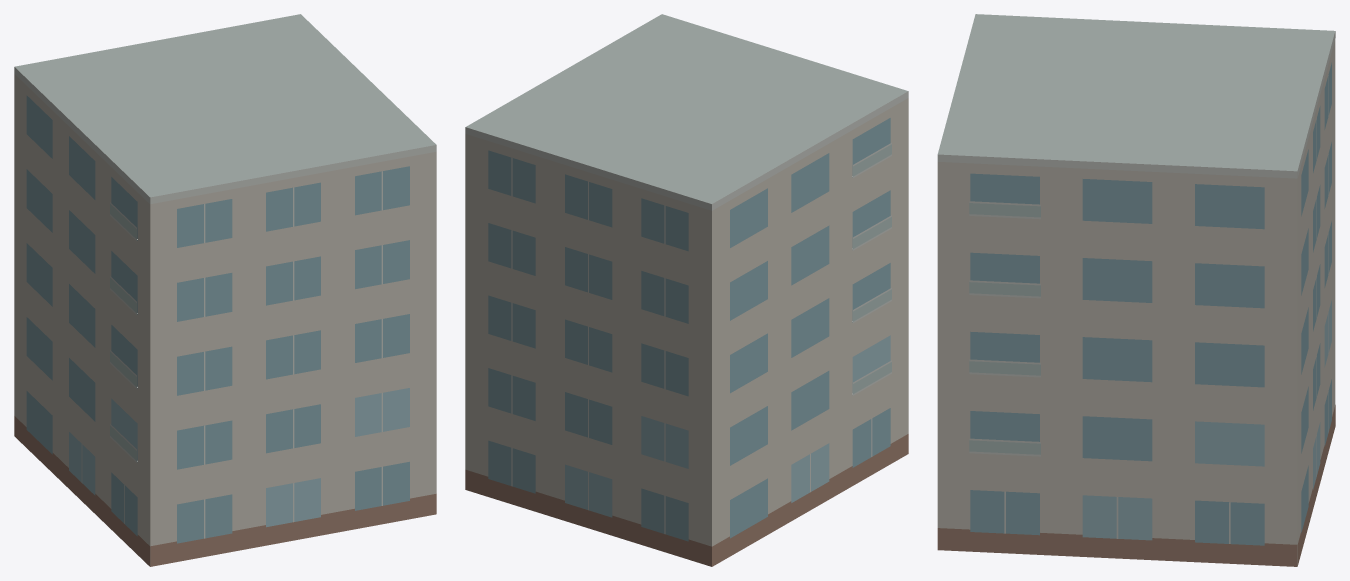
File: survey-upis-32670746.glb
3 views of the same model, side by side, from view 1: azimuth 30°, elevation 25°; view 2: azimuth 150°, elevation 25°; view 3: azimuth 270°, elevation 25° (orthographic). The views are drawn at different scales.
Parts seen in each view (by area): view 1: survey-upis-32670746.tmp; view 2: survey-upis-32670746.tmp; view 3: survey-upis-32670746.tmp.
Boxes of the visible parts, left/top/right/bottom form: survey-upis-32670746.tmp: left=14, top=14, right=436, bottom=566; survey-upis-32670746.tmp: left=465, top=14, right=908, bottom=566; survey-upis-32670746.tmp: left=937, top=14, right=1335, bottom=566.
Size of the model in its own units: 11.27 by 13.2 by 12.04.
